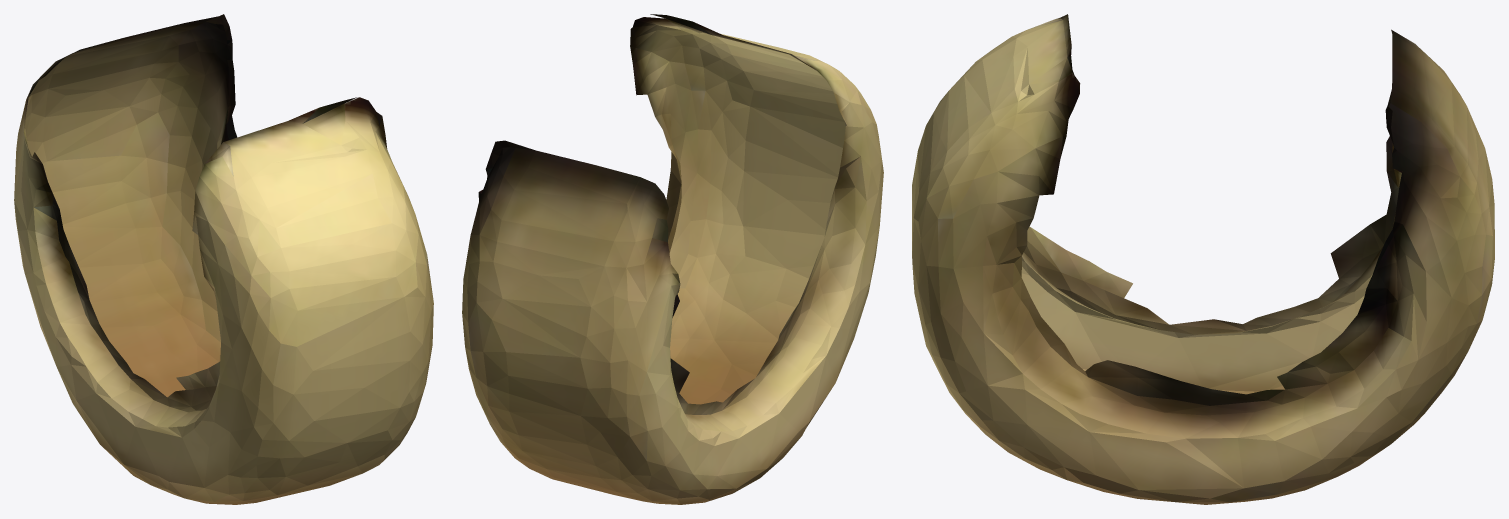
File: wheel_1.glb
3 views of the same model, side by side, from view 1: azimuth 30°, elevation 25°; view 2: azimuth 150°, elevation 25°; view 3: azimuth 270°, elevation 25° (orthographic). The views are drawn at different scales.
Parts seen in each view (by area): view 1: source_surface_0; view 2: source_surface_0; view 3: source_surface_0.
Boxes of the visible parts, <box> form: source_surface_0: <box>14,14,433,504</box>; source_surface_0: <box>462,14,883,504</box>; source_surface_0: <box>912,14,1494,504</box>.
Size of the model in its own units: 0.0141 by 0.0256 by 0.0315.
Materials: 1 (1 with a texture image).
